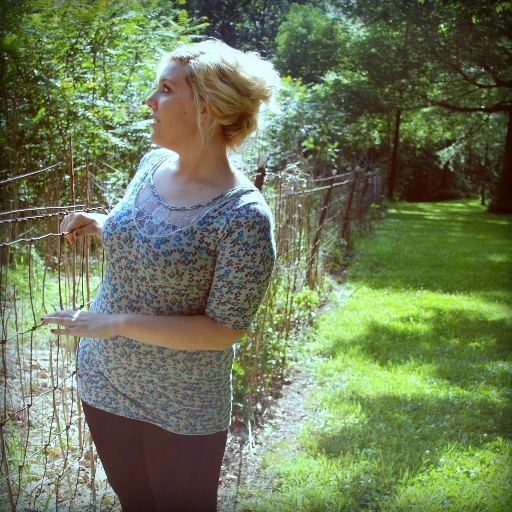hand: (40, 203, 104, 253), (37, 308, 117, 339)
